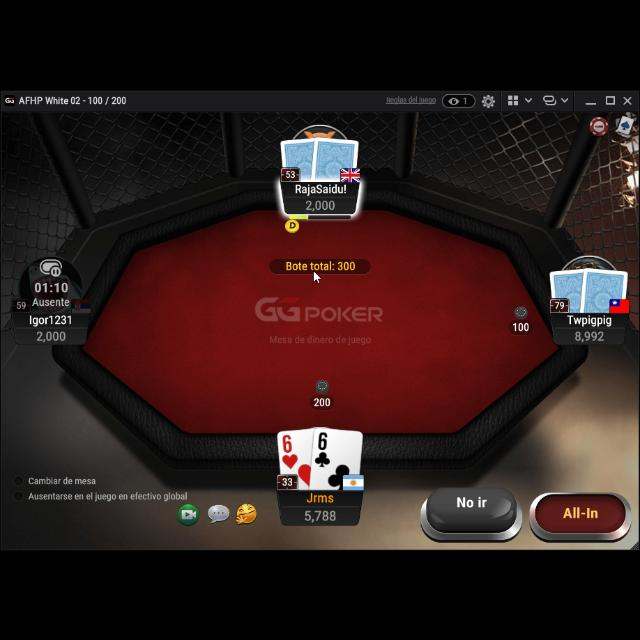6c: (313, 428, 333, 468)
6h: (280, 430, 300, 468)
bet_text: (511, 318, 531, 332), (313, 395, 332, 407)
card_back: (578, 263, 630, 315), (309, 132, 361, 184), (548, 264, 592, 312), (278, 134, 322, 180)
dealer: (284, 215, 300, 232)
pot_text: (283, 258, 357, 270)
stack_text: (302, 506, 338, 522), (304, 195, 336, 212), (573, 328, 605, 342), (35, 328, 67, 342)
